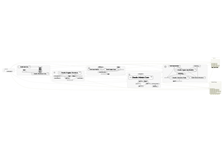

This screenshot's page, from the dashboard's own definition file:
{"tool":"powerbi","page":{"name":"Order Frequency","canvas":[1280,720],"ordinal":2},"visuals":[{"type":"pieChart","title":"Order Frequency By Country","fields":{"Category":["View_OrderDetails.CountryName"],"Y":["CountNonNull(View_OrderDetails.OmsOrderId)"]},"box":[21.8,21.8,314.1,194.9],"z":0},{"type":"pieChart","title":"Yearly Order Frequency","fields":{"Category":["View_OrderDetails (2).Year Hierarchy.Year"],"Y":["CountNonNull(View_OrderDetails.OmsOrderId)"]},"box":[347.7,21.8,240.2,194.9],"z":1000},{"type":"barChart","title":"Order Frequency by City","fields":{"Y":["CountNonNull(View_OrderDetails.OmsOrderId)"],"Category":["View_OrderDetails.BillingCity"]},"box":[881.9,18.5,371.2,203.3],"z":2000},{"type":"lineChart","title":"Order Frequency by Day","fields":{"Category":["View_OrderDetails.DayName"],"Y":["Count(View_OrderDetails.OmsOrderId)"]},"box":[20.2,221.7,1258.2,139.4],"z":3000},{"type":"clusteredColumnChart","title":"Order Frequency by Month","fields":{"Category":["View_OrderDetails.Column"],"Y":["CountNonNull(View_OrderDetails.OmsOrderId)"]},"box":[21.8,364.5,1258.2,178.1],"z":4000},{"type":"lineChart","title":"Order Frequency By Hours (24 hrs Format)","fields":{"Category":["View_OrderDetails.OrderTime"],"Y":["Count(View_OrderDetails.OmsOrderId)"]},"box":[21.8,547.6,1258.2,170.7],"z":5000},{"type":"pieChart","title":"Order Frequency By State","fields":{"Y":["CountNonNull(View_OrderDetails.OmsOrderId)"],"Category":["View_OrderDetails.BillingStateCode"]},"box":[596.8,18.4,273.6,194.7],"z":6000}]}

Visuals, with their boxes on the page's 1280x720 design canvas (x1, y1, x2, y2). These are canvas units, not pixel positions in the 223x152 screenshot, which may show the page scaled, cropped or inside an application window:
"Order Frequency By Country" pieChart: bbox=[22, 22, 336, 217]
"Yearly Order Frequency" pieChart: bbox=[348, 22, 588, 217]
"Order Frequency by City" barChart: bbox=[882, 18, 1253, 222]
"Order Frequency by Day" lineChart: bbox=[20, 222, 1278, 361]
"Order Frequency by Month" clusteredColumnChart: bbox=[22, 364, 1280, 543]
"Order Frequency By Hours (24 hrs Format)" lineChart: bbox=[22, 548, 1280, 718]
"Order Frequency By State" pieChart: bbox=[597, 18, 870, 213]
